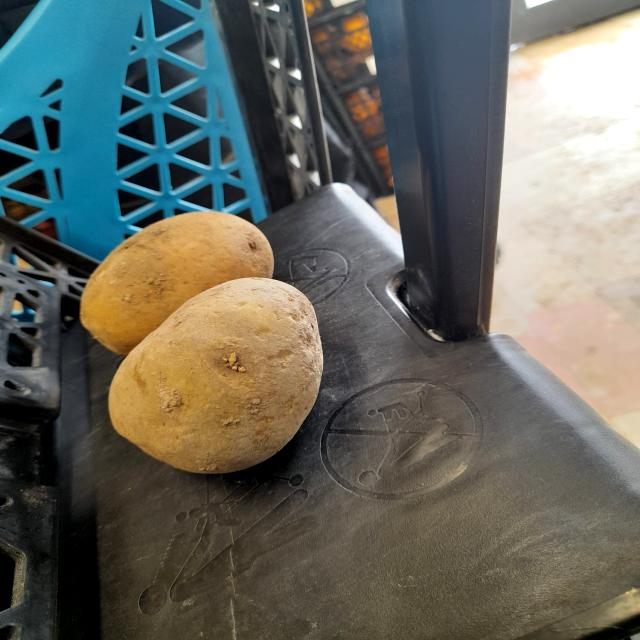potato: (98, 266, 334, 482), (71, 198, 287, 348)
